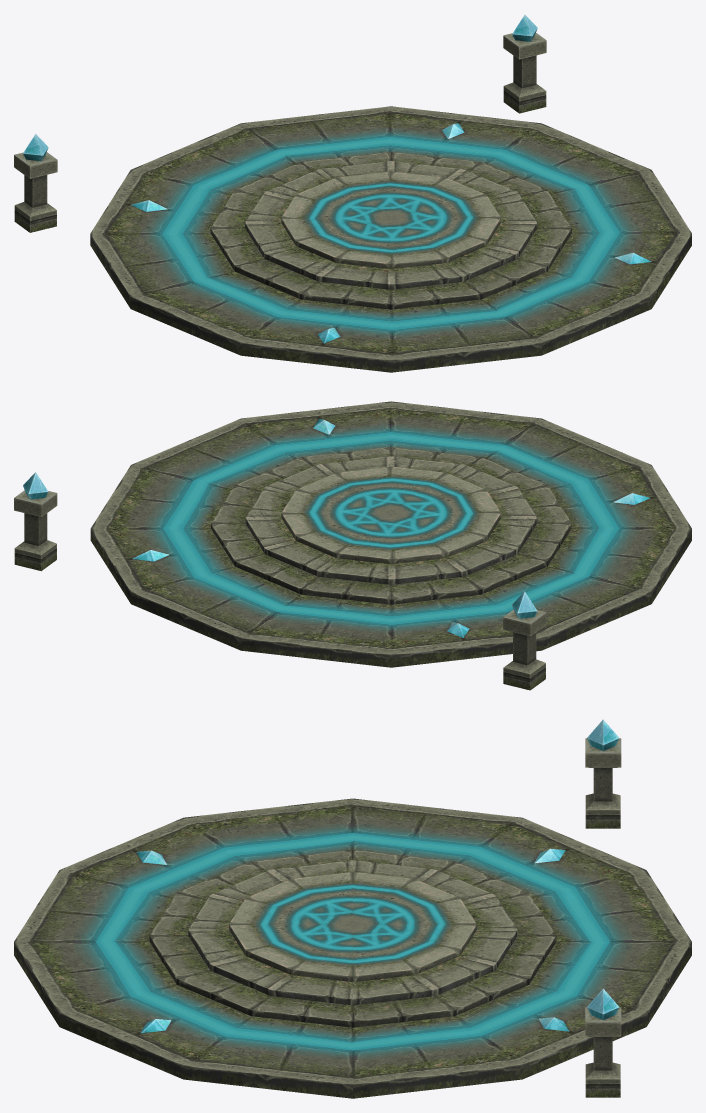
File: SC_yonghengsenlin_40.FBX
3 renders of one model, top to bottom at view 1: azimuth 30°, elevation 25°; view 2: azimuth 150°, elevation 25°; view 3: azimuth 270°, elevation 25°, orthographic. The views are drawn at different scales.
Parts seen in each view (by area): view 1: SC_yonghengsenlin_40; view 2: SC_yonghengsenlin_40; view 3: SC_yonghengsenlin_40.
Boxes of the visible parts, bbox=[...] form: SC_yonghengsenlin_40: bbox=[14, 14, 691, 372]; SC_yonghengsenlin_40: bbox=[14, 401, 691, 690]; SC_yonghengsenlin_40: bbox=[14, 719, 691, 1098].
Bounding box in the file's own units: 1704 × 282 × 1704.
